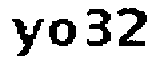2: (116, 4, 147, 51)
3: (81, 1, 112, 50)
o: (48, 17, 80, 49)
y: (9, 17, 45, 56)
